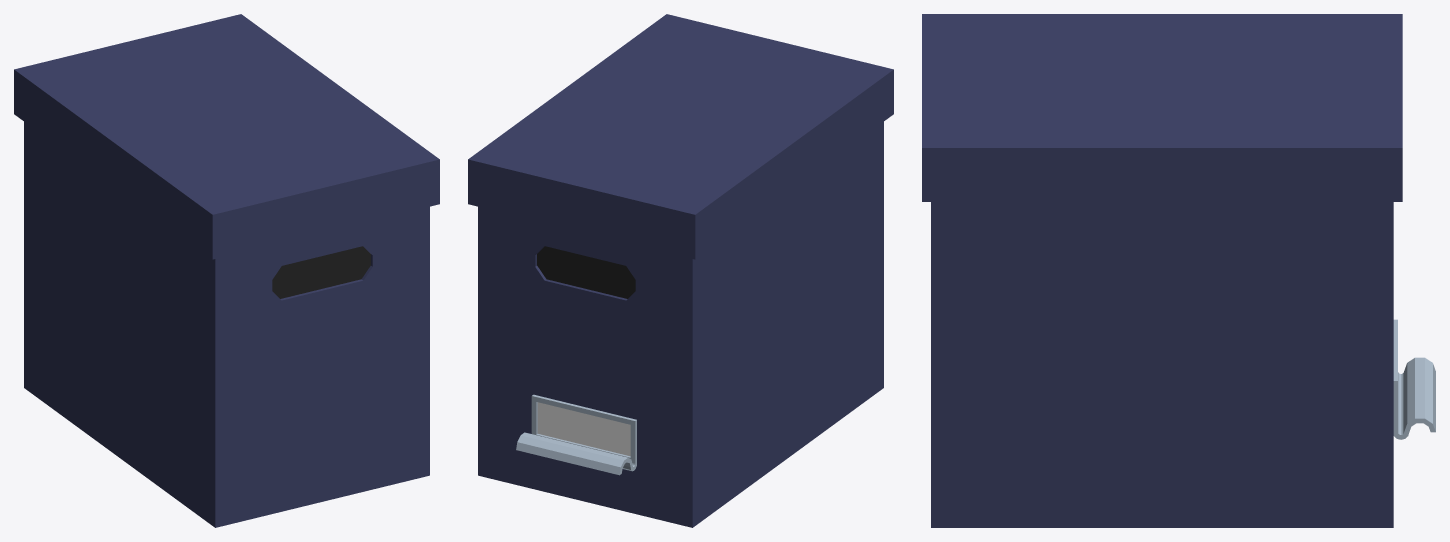
3 renders of one model, left to right at view 1: azimuth 30°, elevation 25°; view 2: azimuth 150°, elevation 25°; view 3: azimuth 270°, elevation 25°, orthographic. The views are drawn at different scales.
Parts seen in each view (by area): view 1: Fill box; view 2: Fill box; view 3: Fill box.
Boxes of the visible parts, x1,y1,x2,y2 form: Fill box: [14, 14, 439, 527]; Fill box: [468, 14, 893, 527]; Fill box: [922, 14, 1435, 527].
Bounding box in the file's own units: 21.94 × 29.28 × 35.53.
